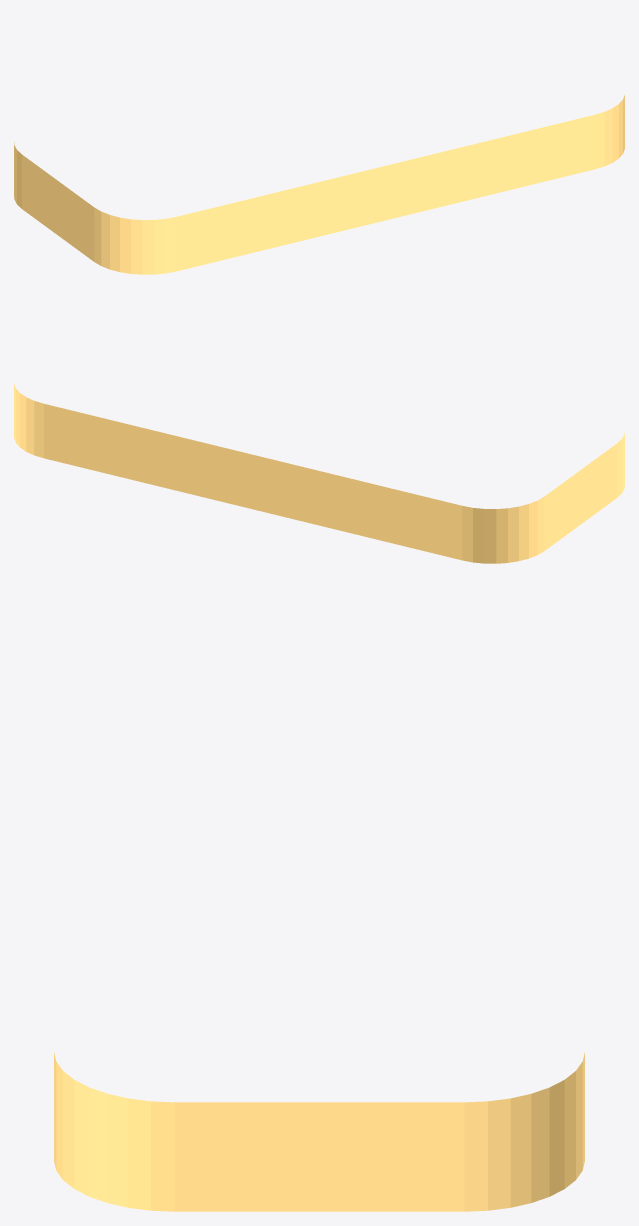
Rendered from btn_lock.glb.
3 renders of one model, top to bottom at view 1: azimuth 30°, elevation 25°; view 2: azimuth 150°, elevation 25°; view 3: azimuth 270°, elevation 25°, orthographic. The views are drawn at different scales.
Parts seen in each view (by area): view 1: btn; view 2: btn; view 3: btn.
Boxes of the visible parts, x1,y1,x2,y2 form: btn: [14, 95, 624, 274]; btn: [14, 384, 624, 563]; btn: [54, 1052, 584, 1211].
Size of the model in its own units: 0.5 by 0.05 by 0.22.
